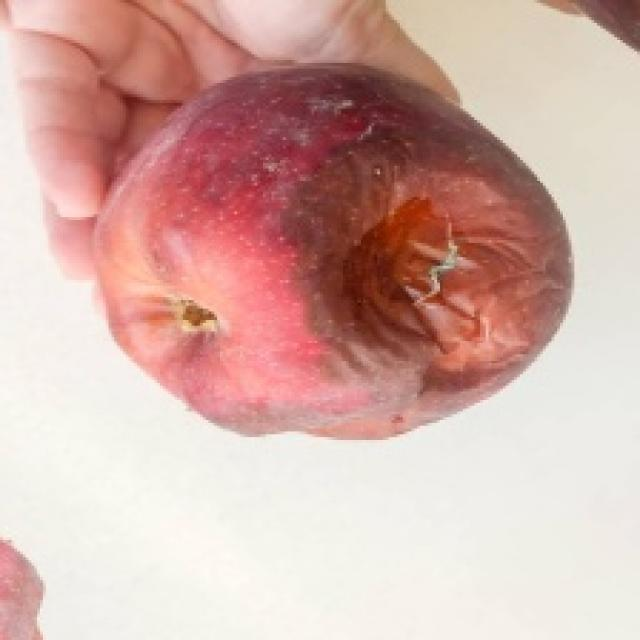rotten_apple: (100, 70, 574, 436)
